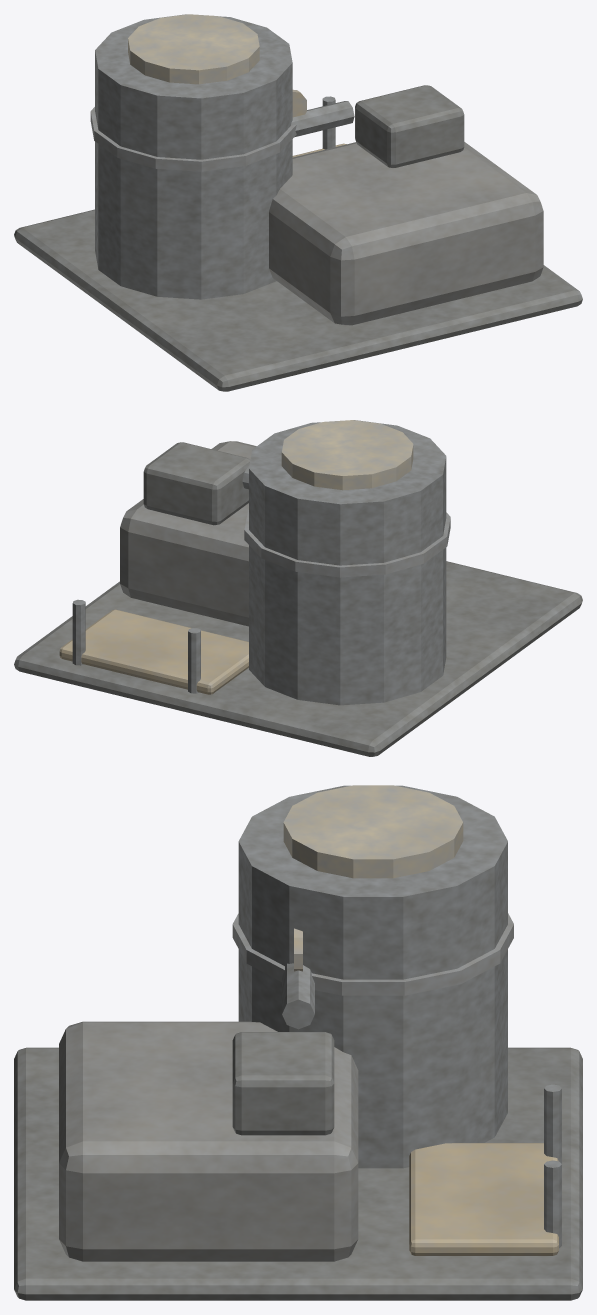
The model's file is com_refinery.glb.
The picture shows the model from 3 angles, top to bottom: view 1: azimuth 30°, elevation 25°; view 2: azimuth 150°, elevation 25°; view 3: azimuth 270°, elevation 25°; orthographic projection. The views are drawn at different scales.
Visible parts, largest first — view 1: com_refinery; view 2: com_refinery; view 3: com_refinery.
Part boxes in pixels (x1,y1,x2,y2): com_refinery: (14,14,582,391); com_refinery: (14,420,582,756); com_refinery: (14,785,582,1300).
Bounding box in the file's own units: 1.9 × 1.15 × 1.9.
1 material, 1 textured.
